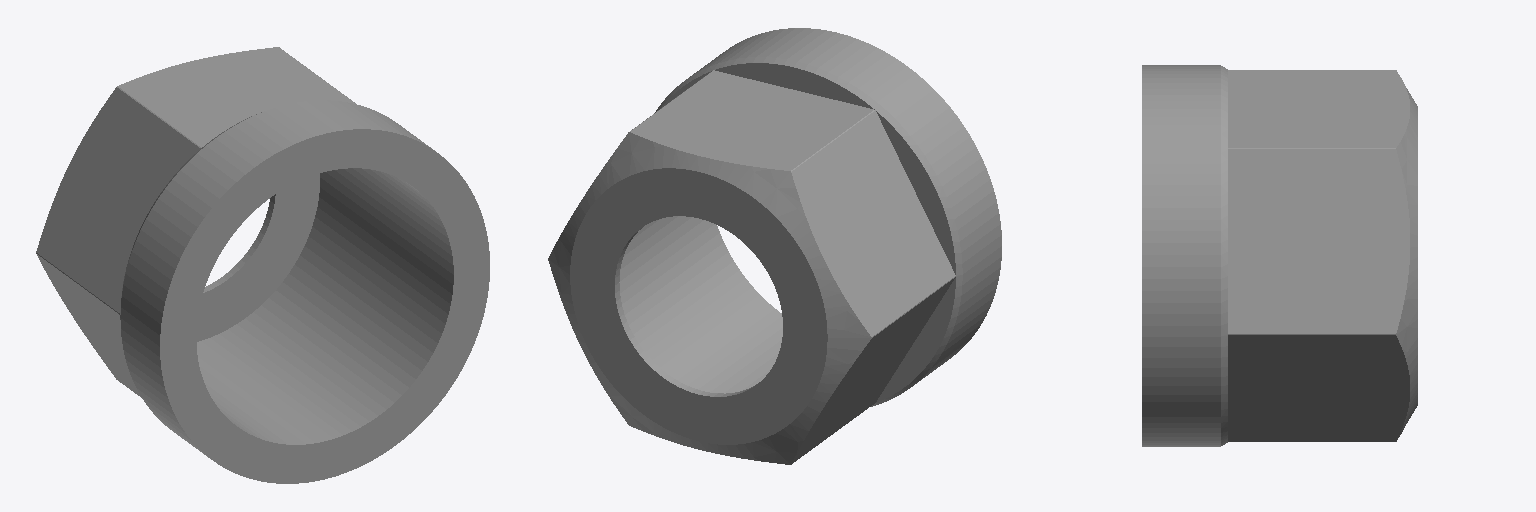
File: toolmutter.obj
3 views of the same model, side by side, from view 1: azimuth 30°, elevation 25°; view 2: azimuth 150°, elevation 25°; view 3: azimuth 270°, elevation 25° (orthographic).
Visible parts, largest first — view 1: toolmutter; view 2: toolmutter; view 3: toolmutter.
Boxes of the visible parts, x1=… form: toolmutter: x1=36, y1=47, x2=489, y2=483; toolmutter: x1=548, y1=28, x2=1001, y2=464; toolmutter: x1=1142, y1=65, x2=1417, y2=446.
Size of the model in its own units: 20 by 20 by 14.5.